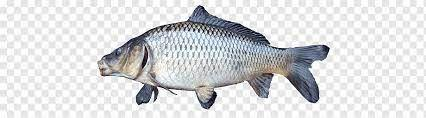Grass Carp: (96, 6, 331, 110)
